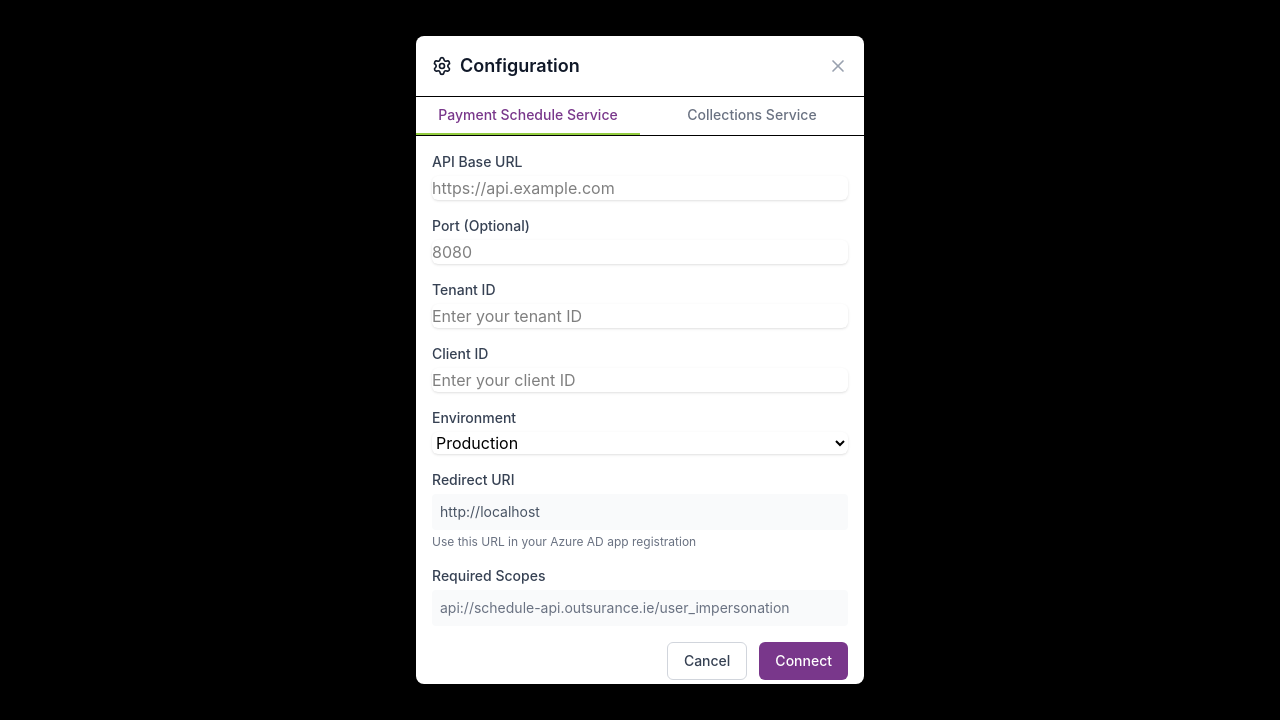
Test: ConfigDialog › shows the environment-suffixed scope for a non-prod environment
Select "Staging" in the dropdown labelled "Environment" at coordinates (640, 443), box [432,432,848,454]
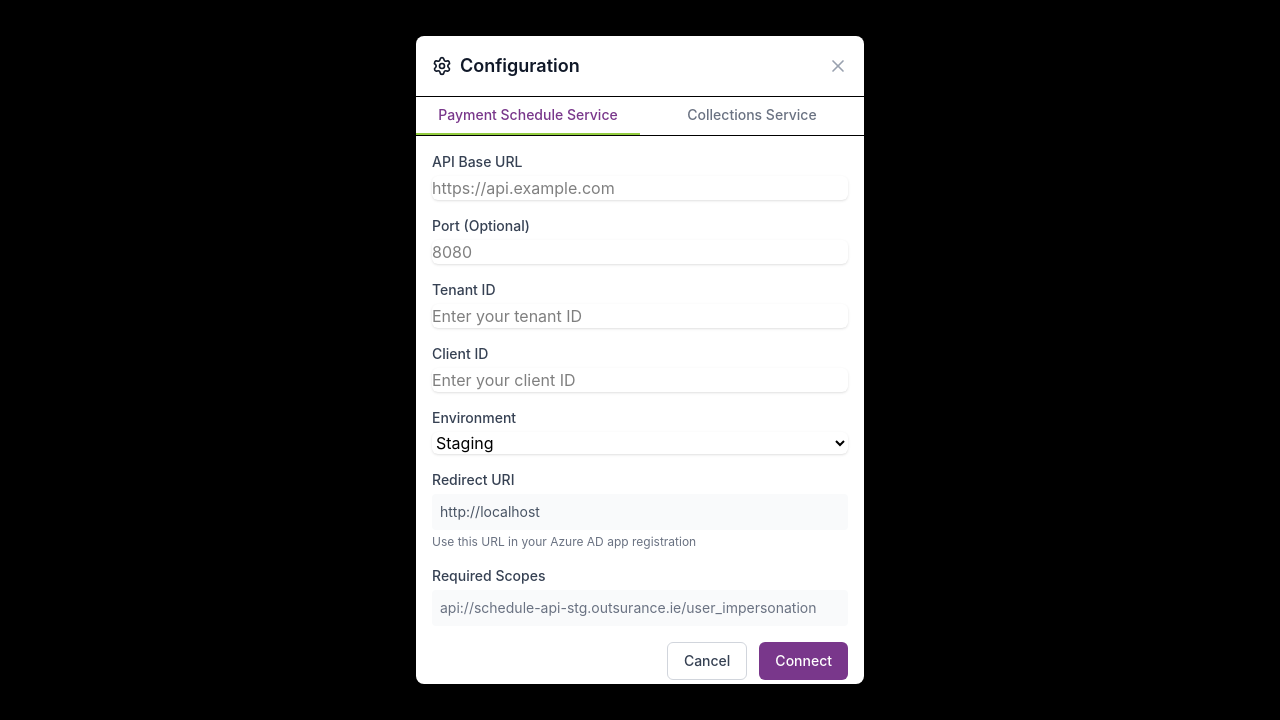
Check: the text "api://schedule-api-stg.outsurance.ie/user_impersonation" is shown, box [432,590,848,626]
